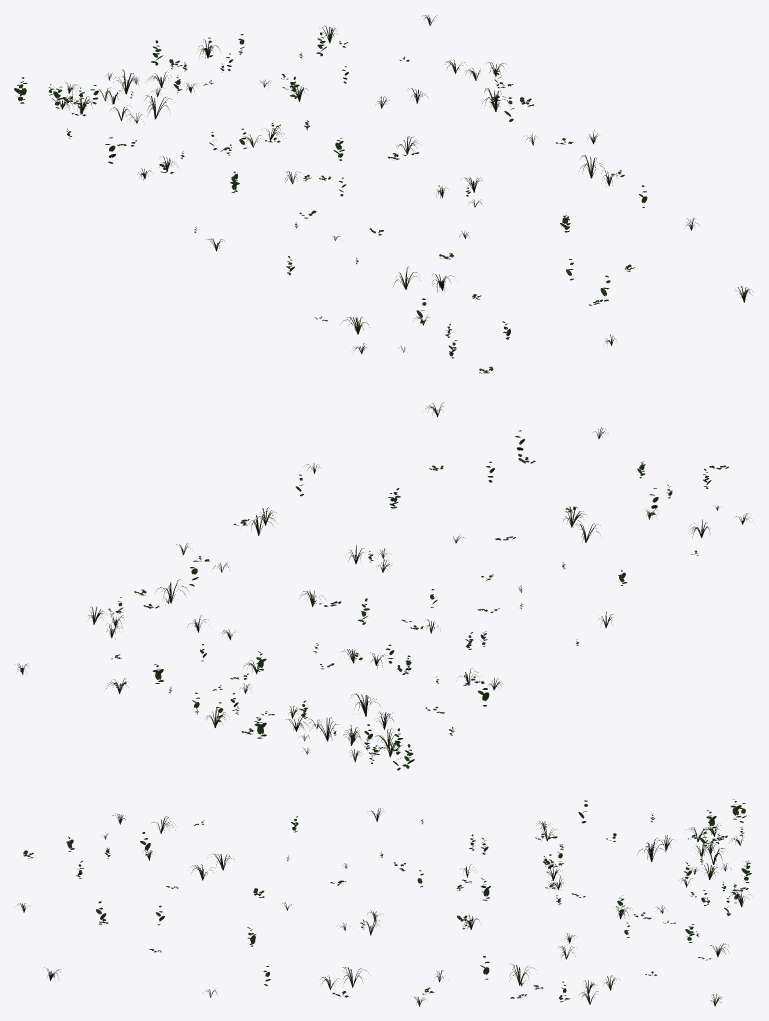
Rendered from weeds_+01+00_foliage.dae.
The picture shows the model from 3 angles, top to bottom: view 1: azimuth 30°, elevation 25°; view 2: azimuth 150°, elevation 25°; view 3: azimuth 270°, elevation 25°; orthographic projection. The views are drawn at different scales.
Parts seen in each view (by area): view 1: weeds_+01+00_foliage; view 2: weeds_+01+00_foliage; view 3: weeds_+01+00_foliage.
Boxes of the visible parts, <box> form: weeds_+01+00_foliage: <box>14,15,752,373</box>; weeds_+01+00_foliage: <box>17,402,749,770</box>; weeds_+01+00_foliage: <box>17,799,751,1006</box>.
Size of the model in its own units: 6.09 by 10.2 by 0.5042.
